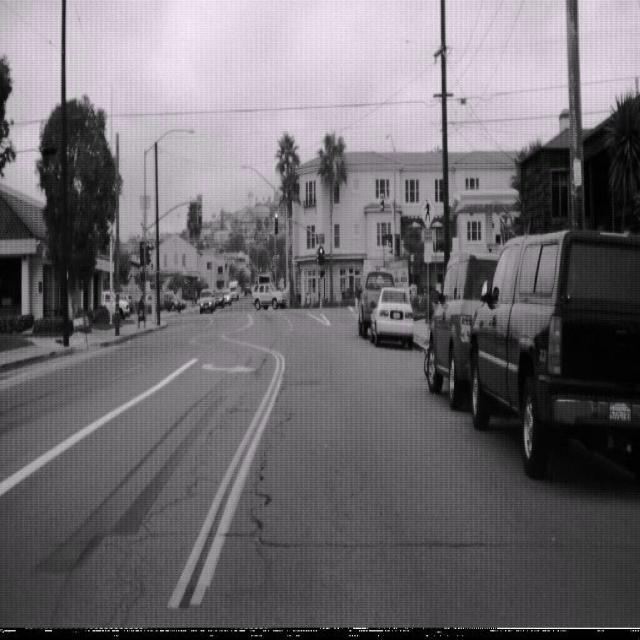pedestrianCrossing: (417, 190, 437, 229)
